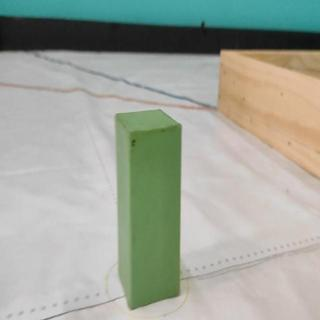greenbox: (115, 109, 183, 314)
